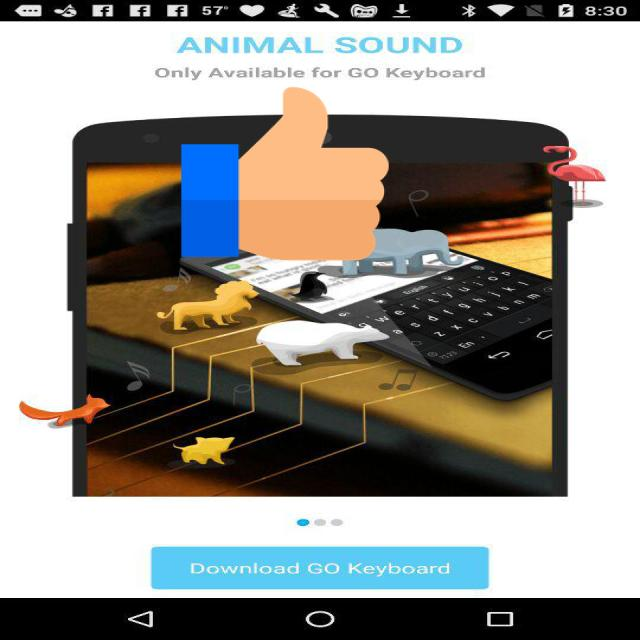privacy zuckering: (181, 83, 389, 264)
